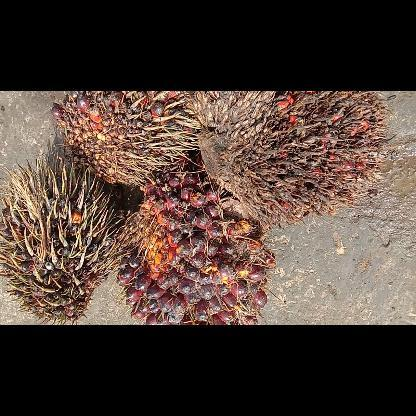Kurang masak: (0, 152, 119, 324)
TBS abnormal: (193, 91, 390, 219), (49, 90, 201, 186)
Terlalu masak: (115, 170, 276, 324)
